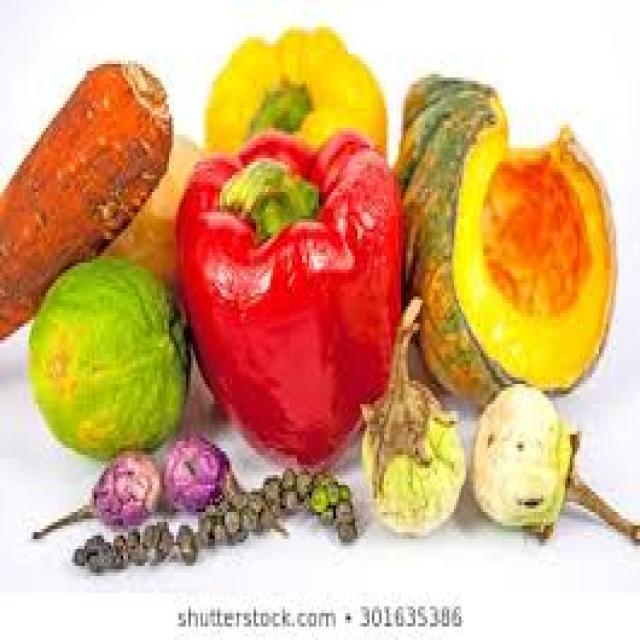organic waste: (171, 121, 406, 465), (396, 67, 614, 401), (0, 50, 167, 334), (27, 253, 186, 462), (70, 462, 357, 570), (468, 380, 638, 536), (200, 27, 387, 158), (360, 293, 461, 532), (99, 132, 198, 276), (159, 428, 285, 532), (29, 448, 159, 536)
